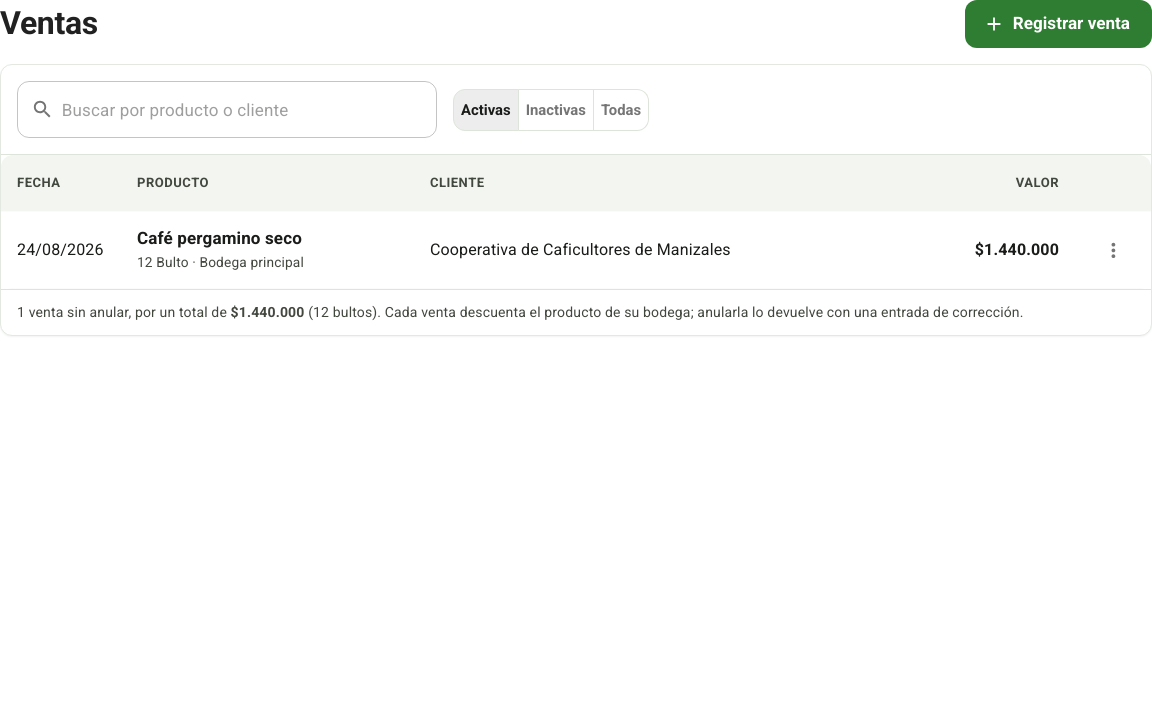
Test: voiding a sale › sends one void for a double click, and ignores a click on the closing dialog
Check: the text "Café pergamino seco" is shown, box [137, 228, 302, 248]
Click the button named "Acciones de".
click(1113, 250)  # box [1091, 228, 1135, 272]
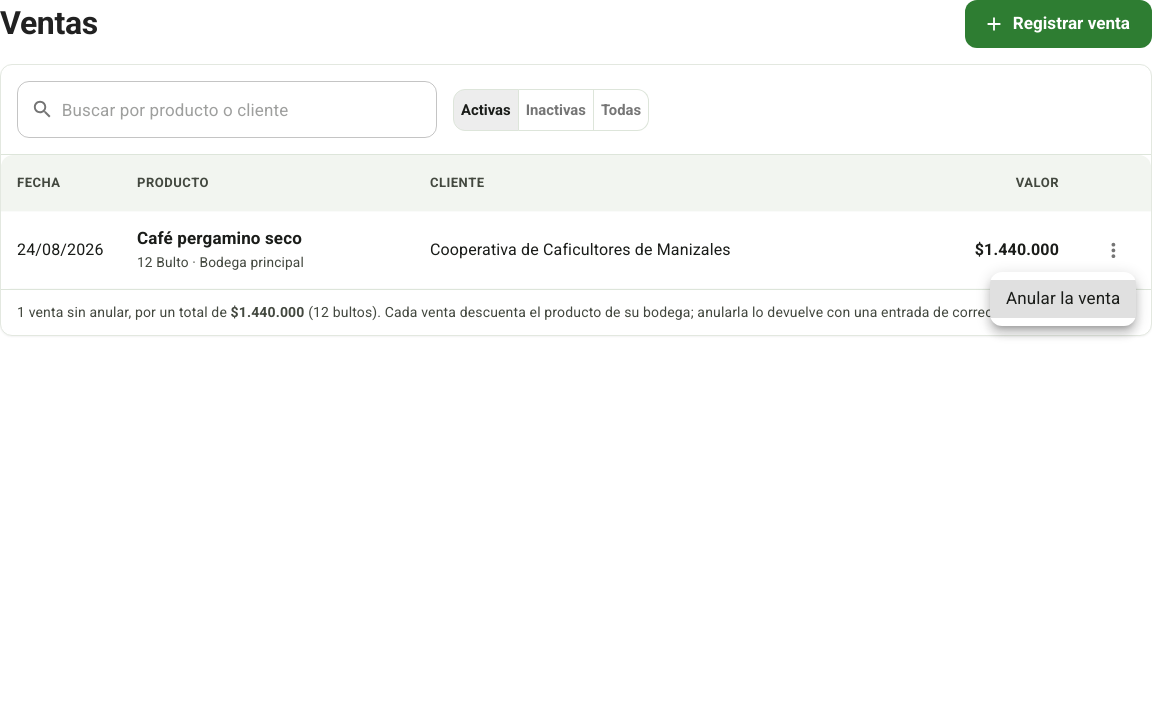
Click the menu item "Anular la venta".
click(1063, 299)  # box [990, 280, 1136, 318]
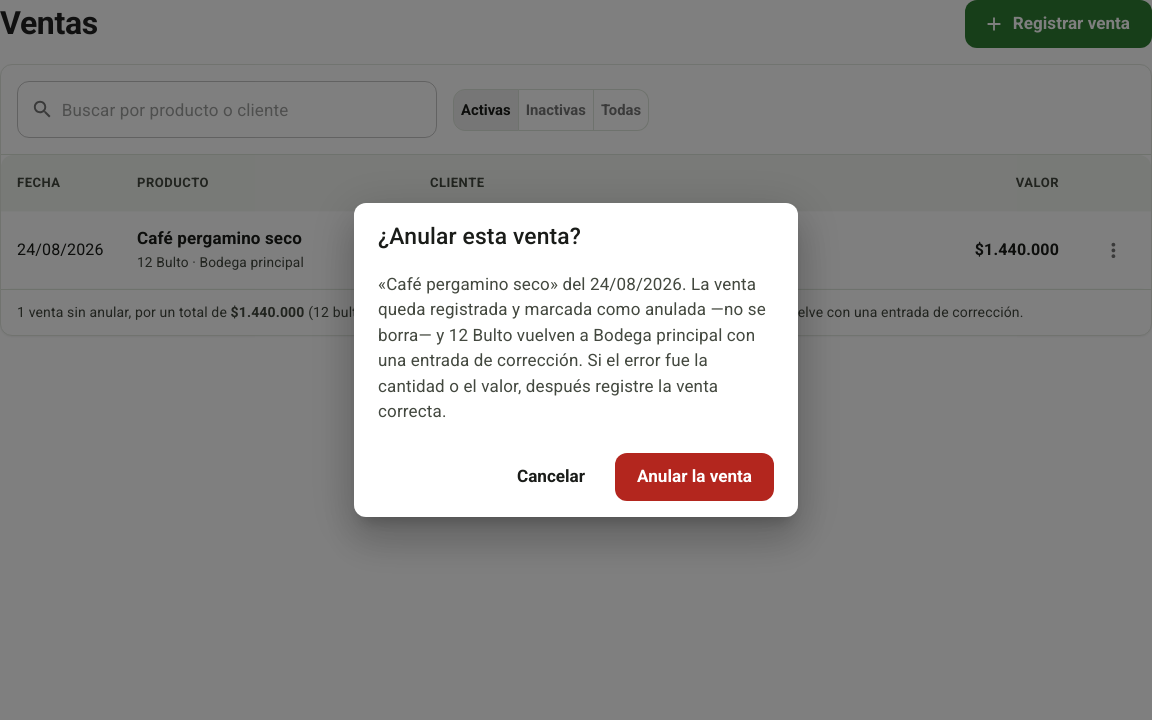
Click the button "Anular la venta".
click(694, 477)  # box [615, 453, 774, 501]
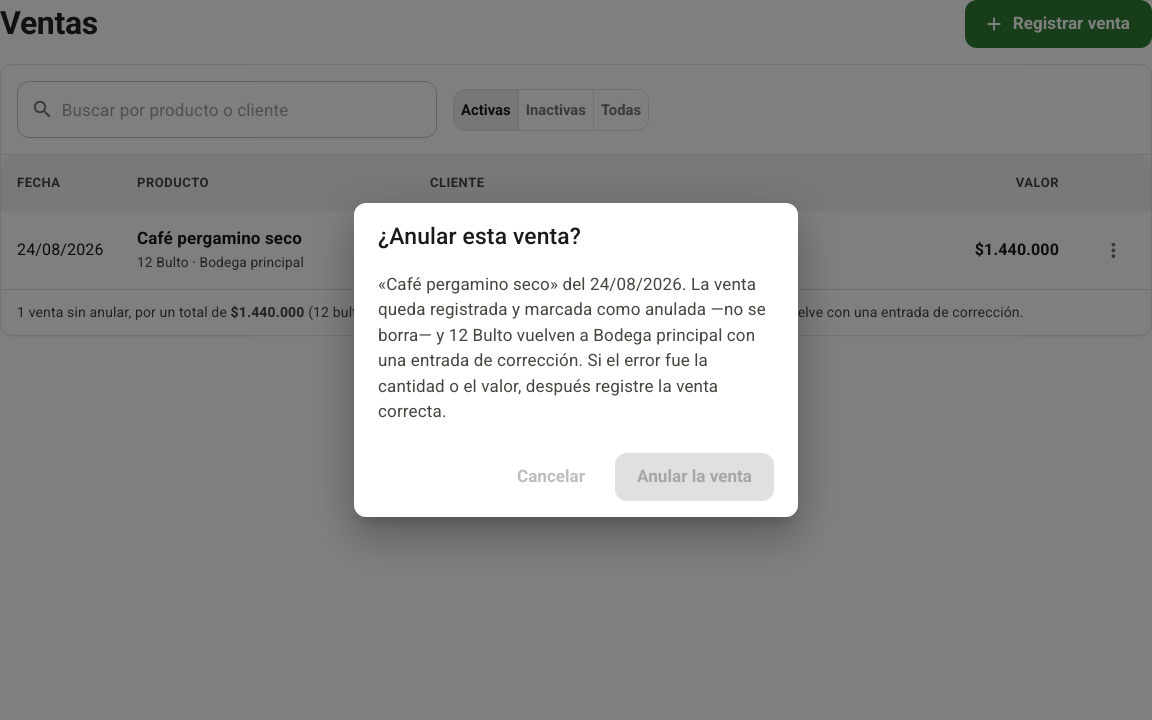
Click the button "Anular la venta".
click(694, 477)  # box [615, 453, 774, 501]
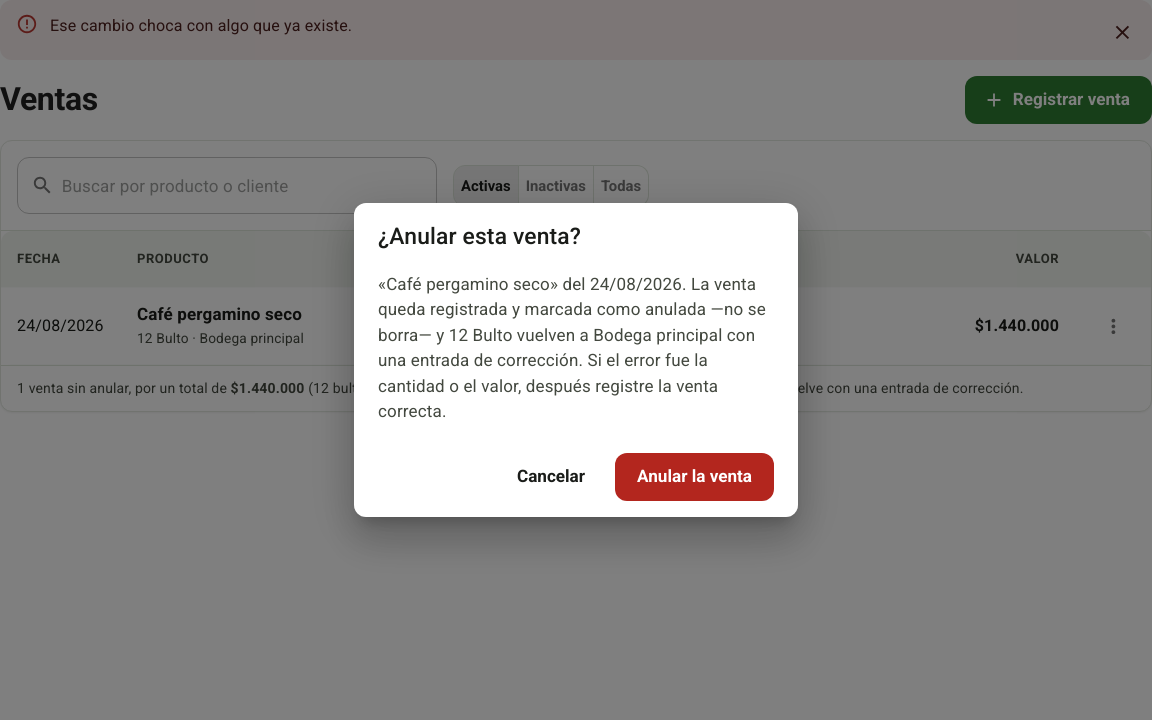
Check: the message "Ese cambio choca con algo que ya existe." is shown, box [0, 0, 1151, 60]
